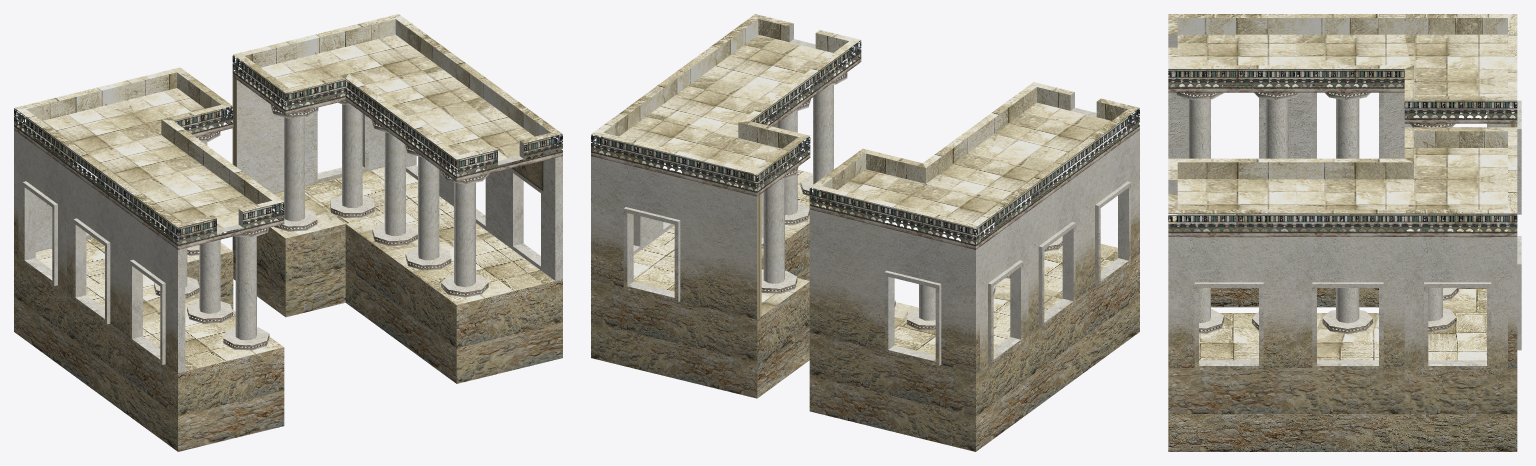
Rendered from kart_dock.dae.
3 renders of one model, left to right at view 1: azimuth 30°, elevation 25°; view 2: azimuth 150°, elevation 25°; view 3: azimuth 270°, elevation 25°, orthographic. The views are drawn at different scales.
Parts seen in each view (by area): view 1: objPlane02; view 2: objPlane02; view 3: objPlane02.
Boxes of the visible parts, x1,y1,x2,y2 form: objPlane02: (14, 14, 562, 451); objPlane02: (591, 14, 1139, 451); objPlane02: (1168, 14, 1521, 451).
Bounding box in the file's own units: 26.12 × 19.17 × 14.28.
